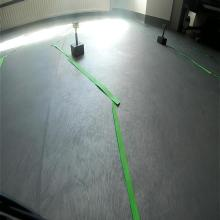green: (72, 20, 79, 29)
